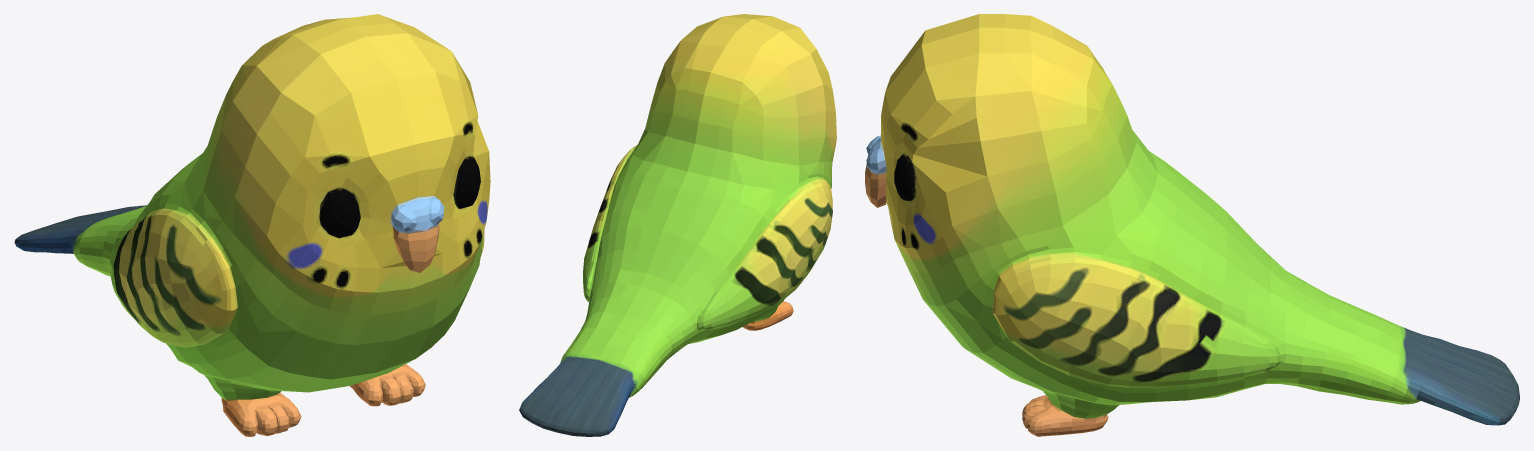
Rendered from parakeet.glb.
The picture shows the model from 3 angles, left to right: view 1: azimuth 30°, elevation 25°; view 2: azimuth 150°, elevation 25°; view 3: azimuth 270°, elevation 25°; orthographic projection. The views are drawn at different scales.
Parts seen in each view (by area): view 1: Parakeet; view 2: Parakeet; view 3: Parakeet.
Boxes of the visible parts, x1,y1,x2,y2 form: Parakeet: (14, 14, 490, 436); Parakeet: (519, 14, 836, 436); Parakeet: (865, 14, 1519, 436).
Size of the model in its own units: 0.9432 by 1.21 by 1.91.
1 material, 1 textured.
